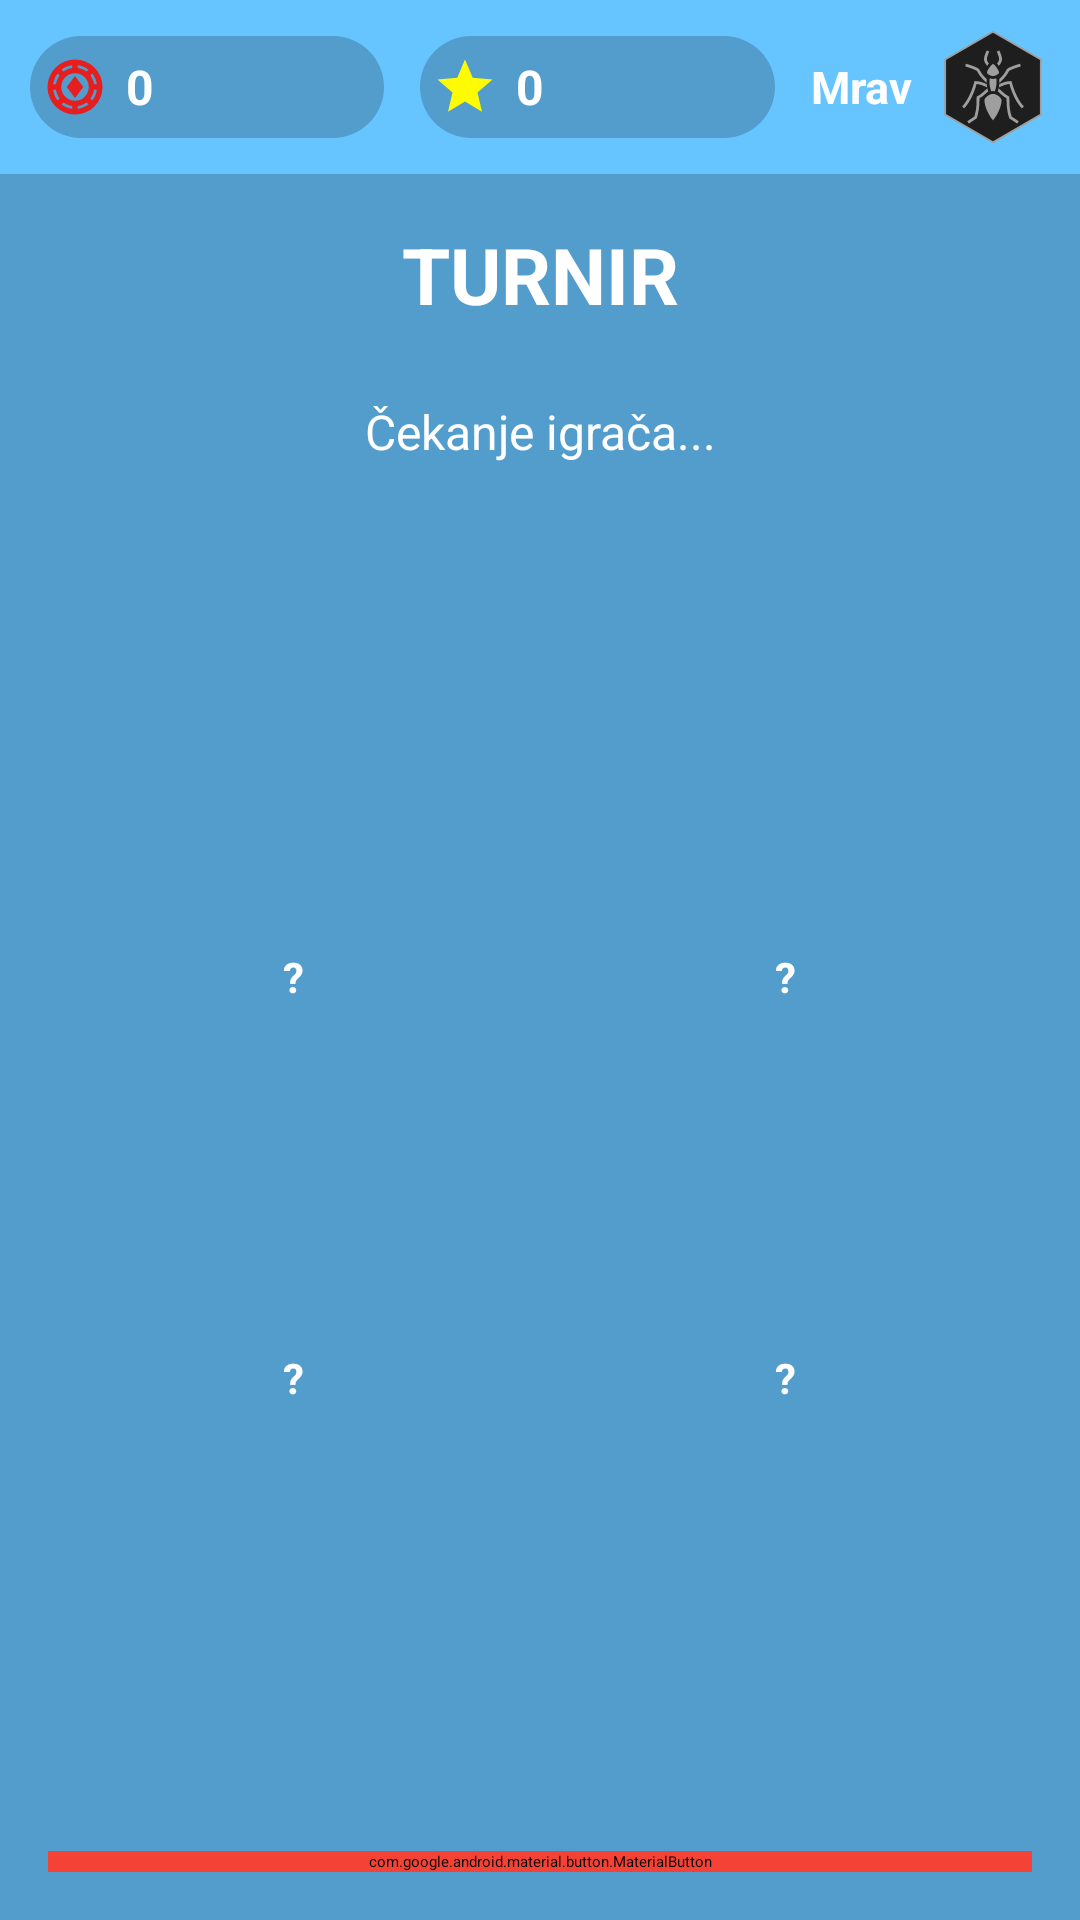

Point at icon controls on the screen. Image size 1080×1920, points as (x,y).
Liga: (993,87)
Tokeni: (75,87)
Zvezde: (465,86)
